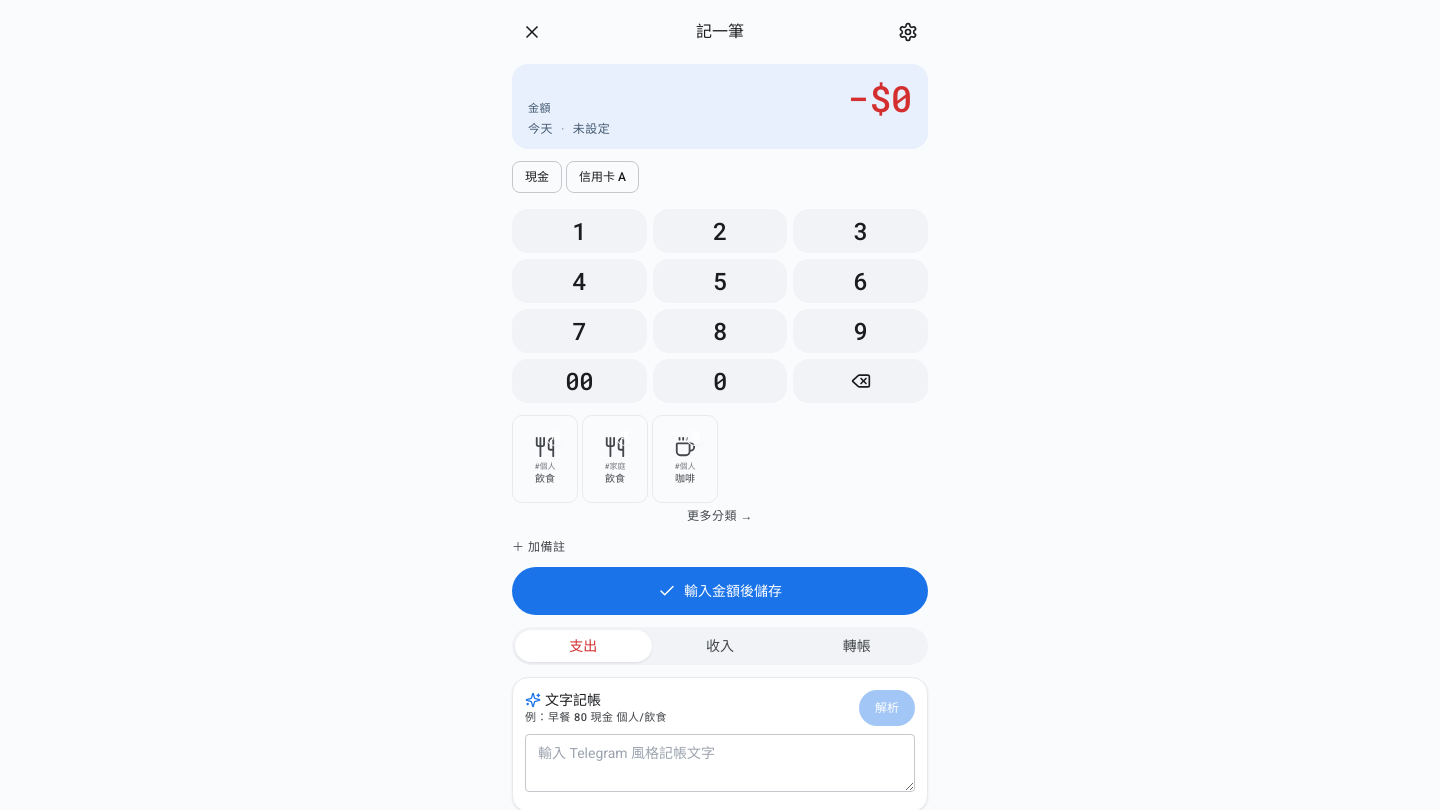
QuickEntryPage (M3 v2.0) › opens date bottom sheet instead of window.prompt
Expected: the text "記一筆" is shown, left=696, top=20, right=744, bottom=44
Click the button with aria-label "日期" at (540, 129), box left=528, top=121, right=553, bottom=137
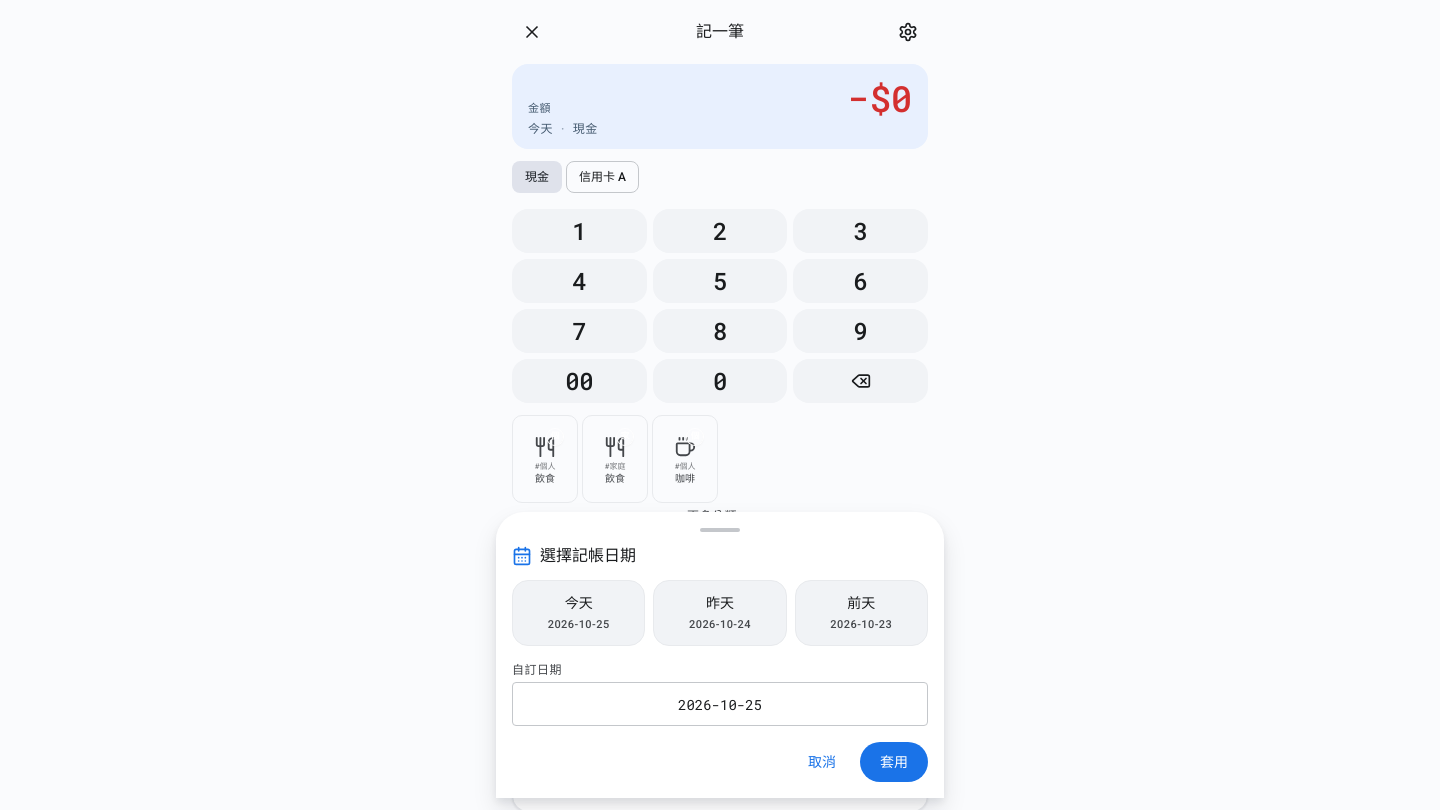
Expected: the dialog named "選擇日期" is shown, left=496, top=512, right=944, bottom=798
Expected: the button "昨天 2026-10-24" is shown, left=653, top=580, right=787, bottom=646
